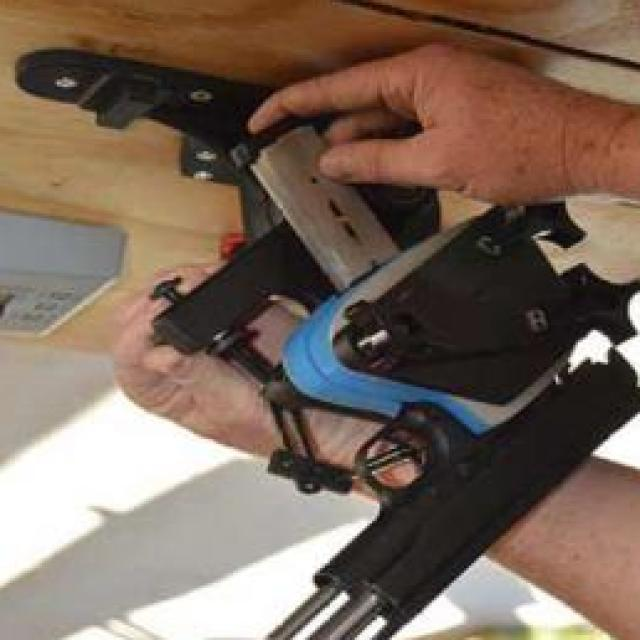pistol: (238, 117, 640, 640)
